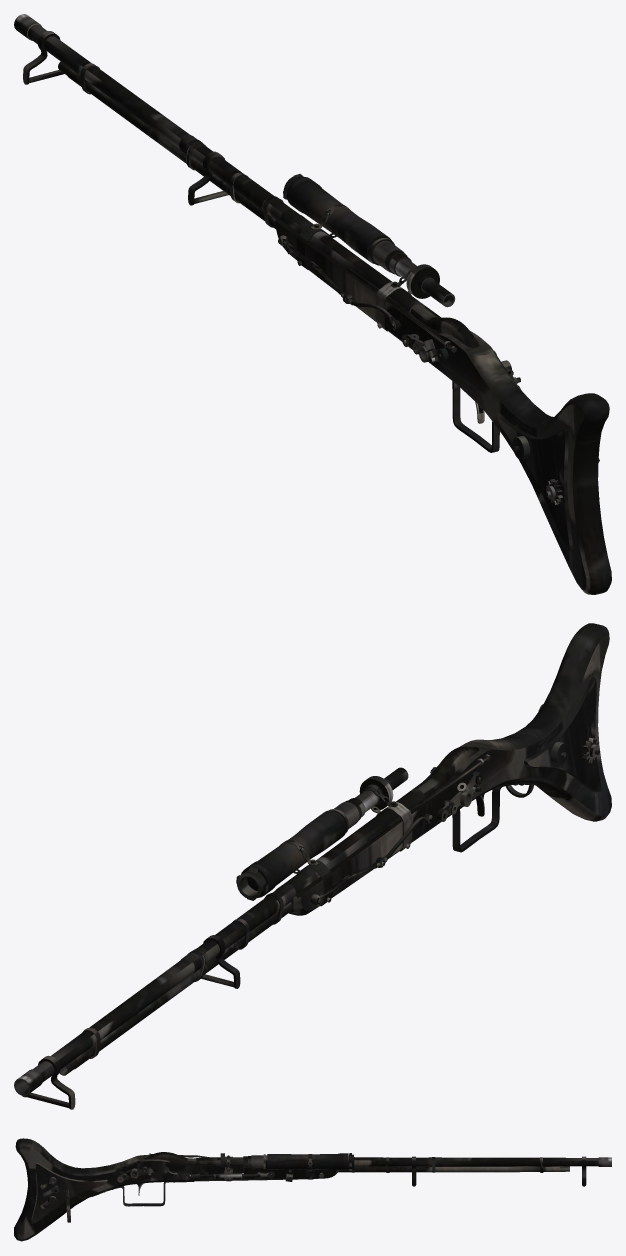
3 renders of one model, top to bottom at view 1: azimuth 30°, elevation 25°; view 2: azimuth 150°, elevation 25°; view 3: azimuth 270°, elevation 25°, orthographic. The views are drawn at different scales.
Parts seen in each view (by area): view 1: mesh_0; view 2: mesh_0; view 3: mesh_0.
Boxes of the visible parts, x1,y1,x2,y2 form: mesh_0: (14,14,611,594); mesh_0: (14,623,611,1109); mesh_0: (14,1138,611,1241).
Bounding box in the file's own units: 3.87 × 10.38 × 56.26.
1 material, 1 textured.
